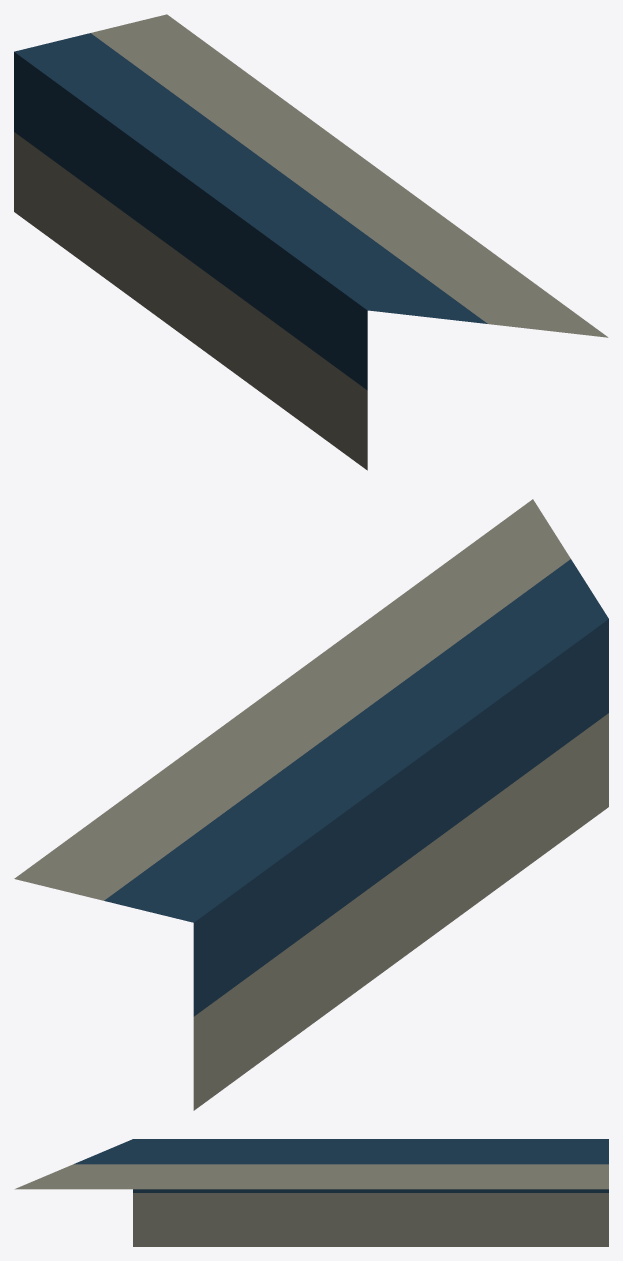
File: swimming pool edge7.FBX
The picture shows the model from 3 angles, top to bottom: view 1: azimuth 30°, elevation 25°; view 2: azimuth 150°, elevation 25°; view 3: azimuth 270°, elevation 25°; orthographic projection. The views are drawn at different scales.
Visible parts, largest first — view 1: swimming pool edge7; view 2: swimming pool edge7; view 3: swimming pool edge7.
Boxes of the visible parts, bbox=[...] form: swimming pool edge7: bbox=[14, 14, 608, 470]; swimming pool edge7: bbox=[14, 499, 608, 1110]; swimming pool edge7: bbox=[14, 1139, 608, 1246].
Bounding box in the file's own units: 4 × 4 × 20.
